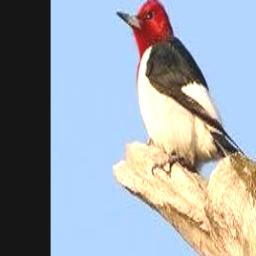Woodpecker: (117, 0, 239, 165)
